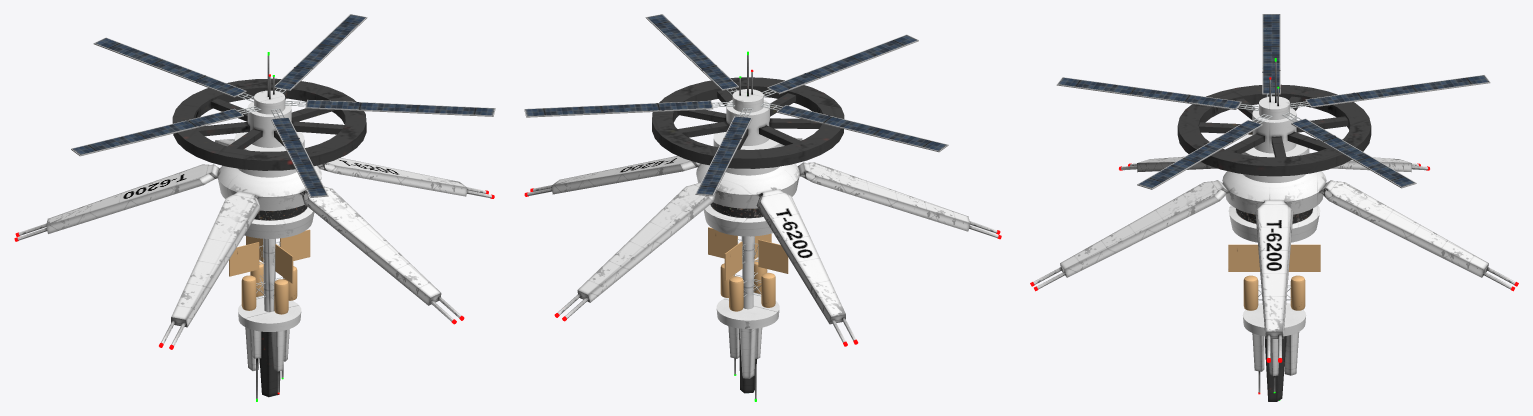
The model's file is low_poly_space_station.glb.
The picture shows the model from 3 angles, left to right: view 1: azimuth 30°, elevation 25°; view 2: azimuth 150°, elevation 25°; view 3: azimuth 270°, elevation 25°; orthographic projection.
Visible parts, largest first — view 1: Space_Station_0; view 2: Space_Station_0; view 3: Space_Station_0.
Part boxes in pixels (<box>): Space_Station_0: <box>14,14,495,401</box>; Space_Station_0: <box>524,14,1001,401</box>; Space_Station_0: <box>1030,14,1518,401</box>.
Bounding box in the file's own units: 9.21 × 7.34 × 9.38.
1 material, 1 textured.
